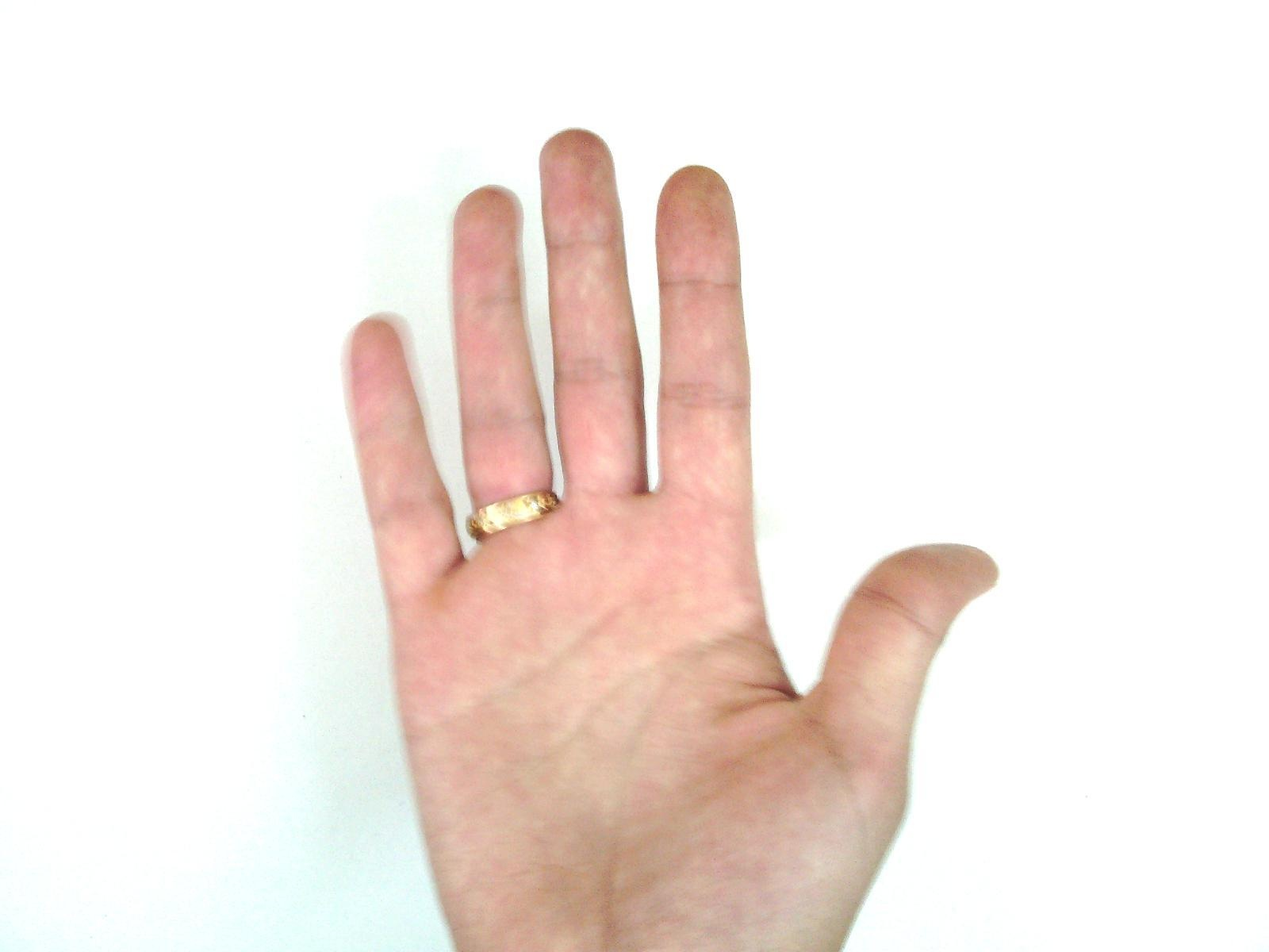open_palm: (337, 127, 1001, 951)
